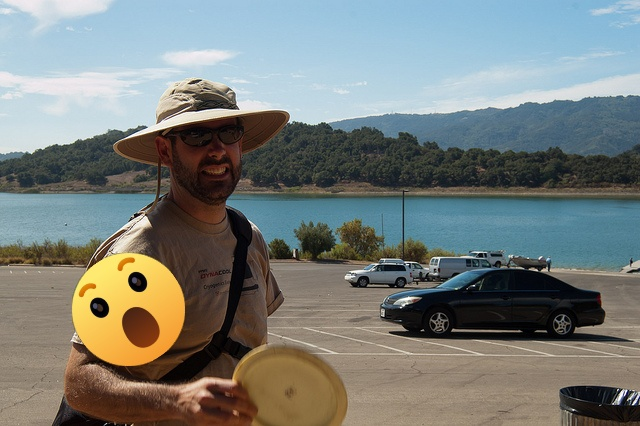wow: (72, 253, 185, 366)
